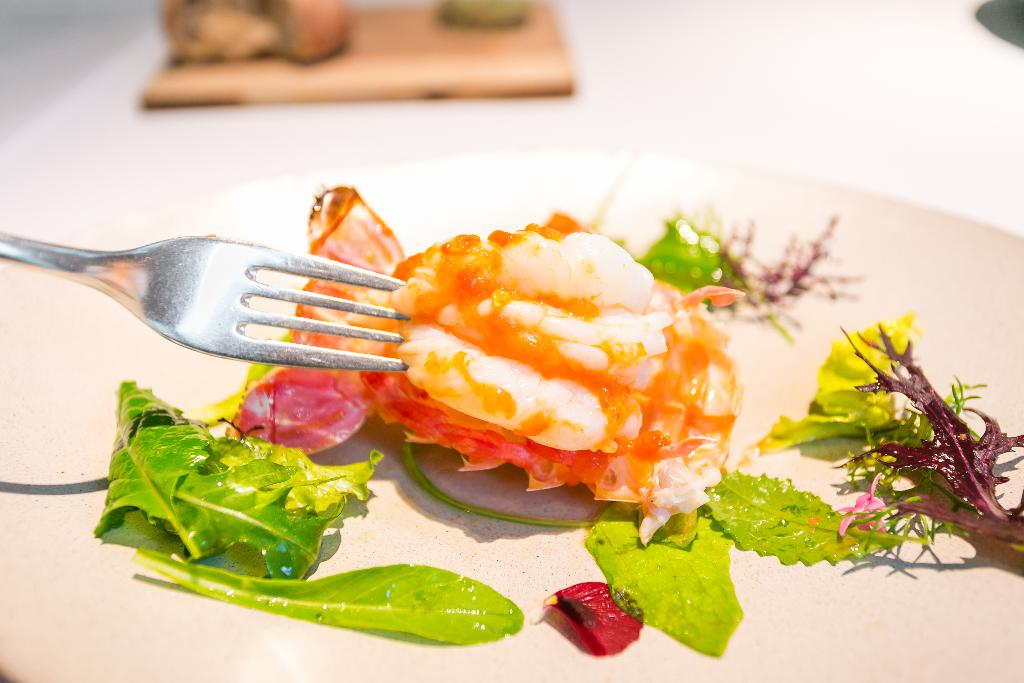fork: (0, 235, 410, 371)
